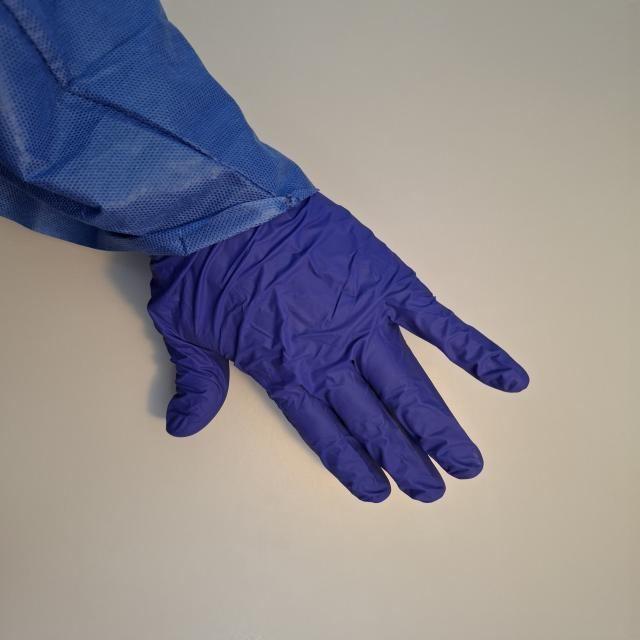glove_on: (142, 185, 532, 505)
